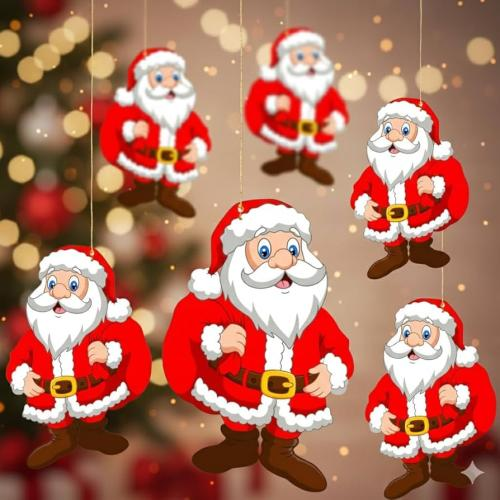Santa: (162, 198, 354, 493), (6, 243, 152, 470), (364, 296, 496, 500), (350, 96, 470, 280), (100, 47, 210, 219), (244, 26, 350, 186)
